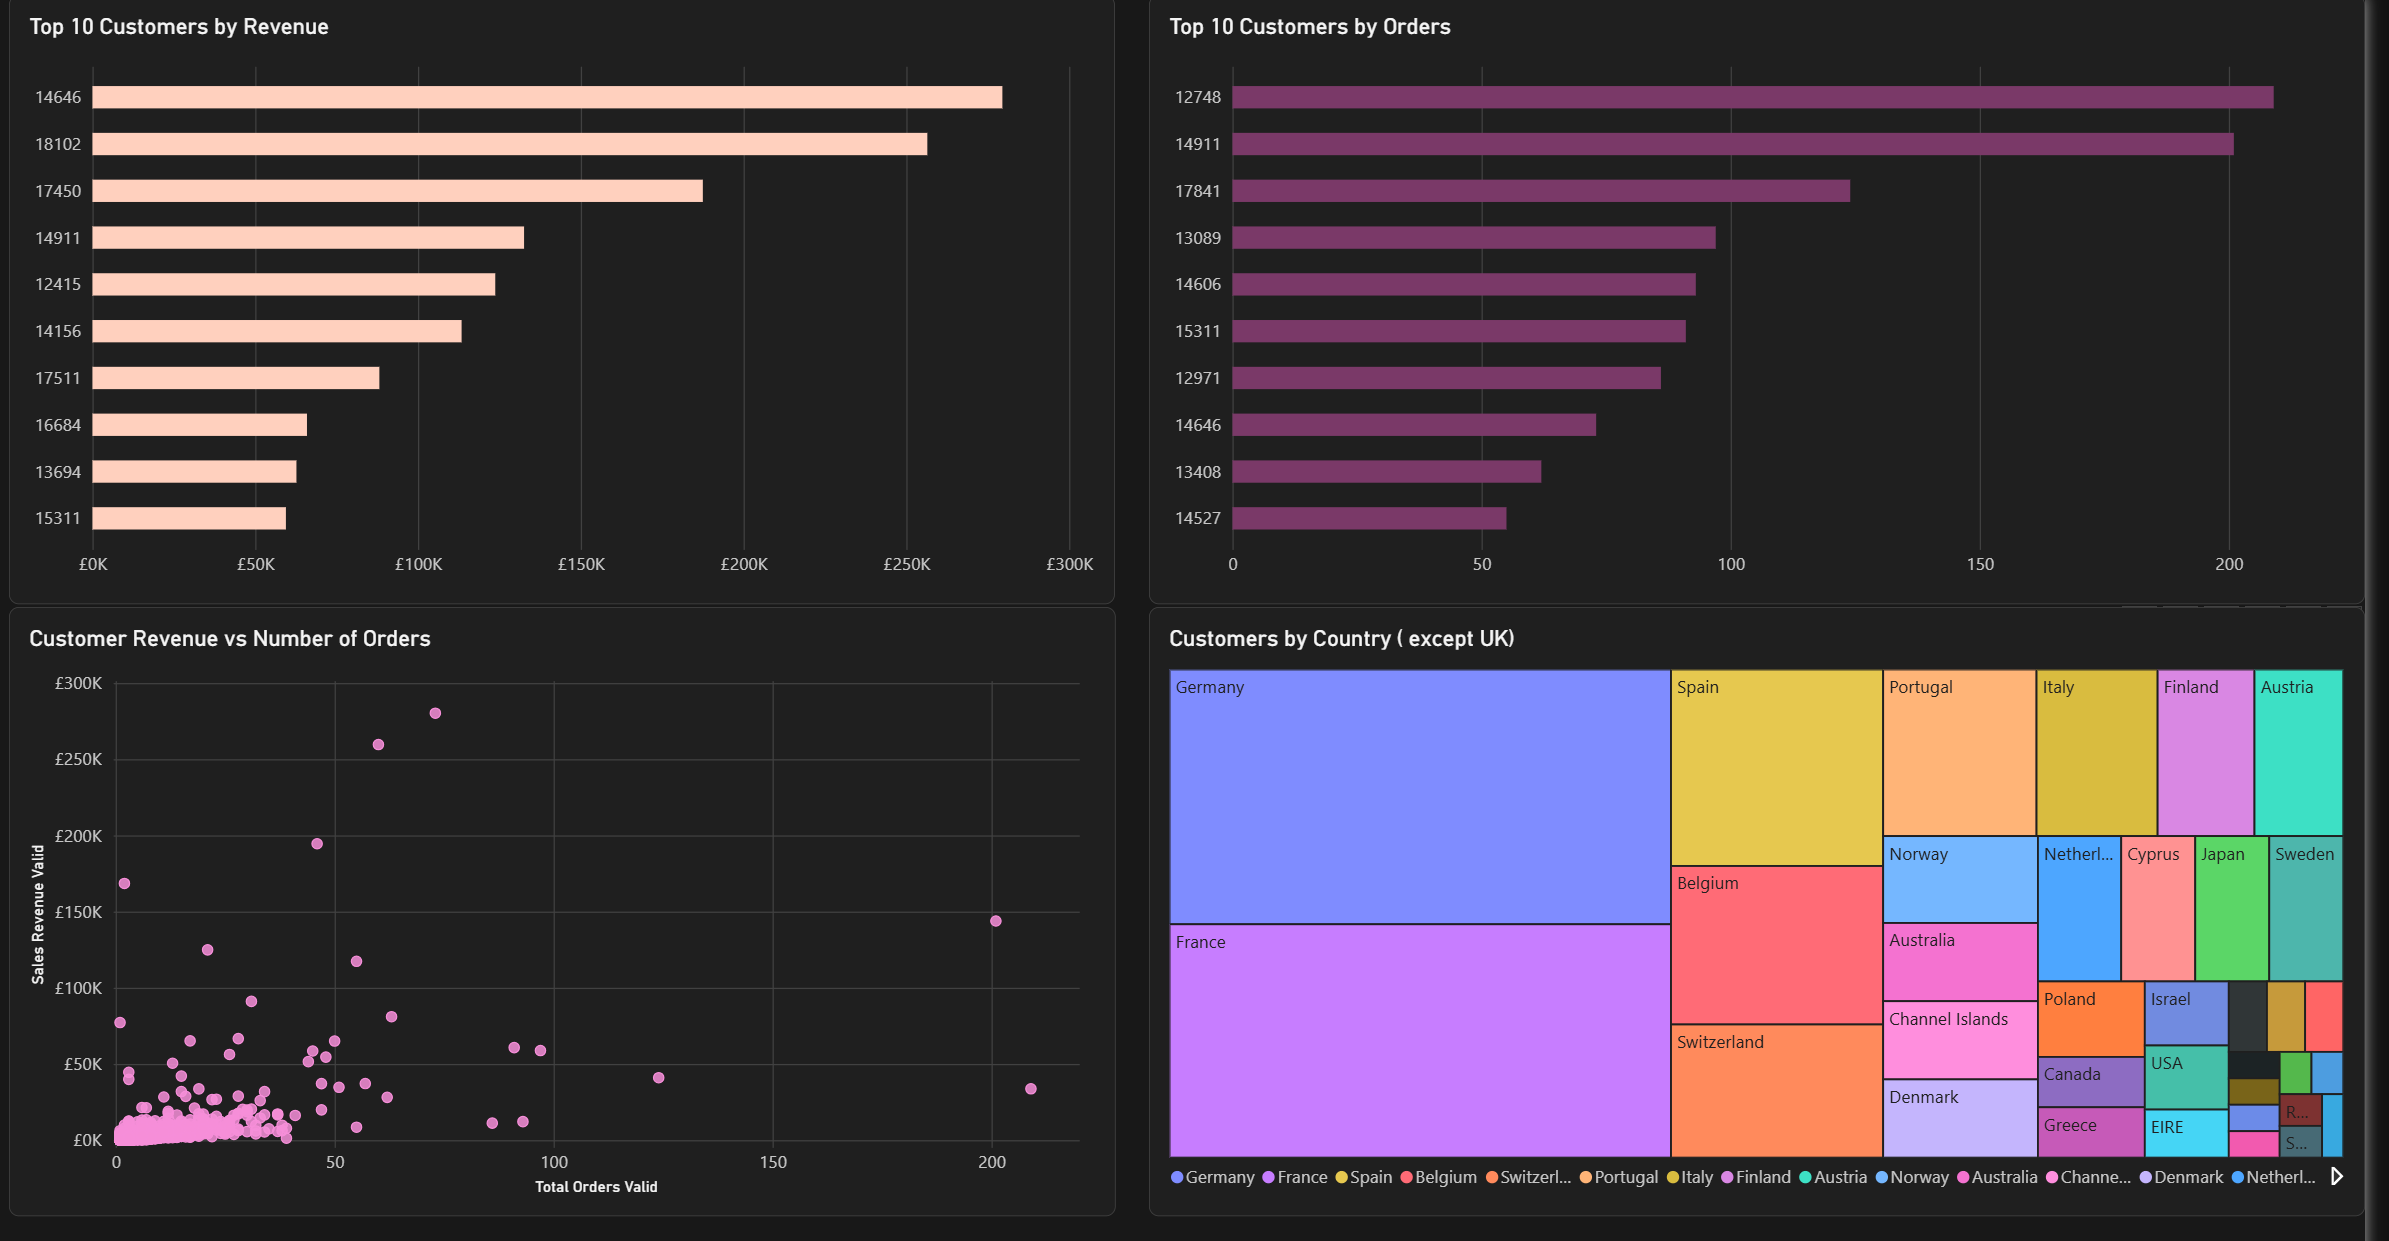

The page's visual inventory and layout, read from the dashboard file:
{"tool":"powerbi","page":{"name":"Customer Analysis","canvas":[1920,1080],"ordinal":2},"visuals":[{"type":"barChart","title":"Top 10 Customers by Revenue","fields":{"Category":["DimCustomer.CustomerID"],"Y":["Sales.Total Revenue"]},"box":[9.2,0,896.9,493.8],"z":0},{"type":"barChart","title":"Top 10 Customers by Orders","fields":{"Category":["Sales.CustomerID"],"Y":["Sales.Total Orders Valid"]},"box":[933.9,0,985.7,493.8],"z":1000},{"type":"scatterChart","title":"Customer Revenue vs Number of Orders","fields":{"Category":["DimCustomer.CustomerID"],"X":["Sales.Total Orders Valid"],"Y":["Sales.Sales Revenue Valid"]},"box":[9.2,495.6,897,494],"z":2000},{"type":"treemap","title":"Customers by Country ( except UK)","fields":{"Group":["DimCountry.Country"],"Values":["CountNonNull(DimCustomer.CustomerID)"]},"box":[933.9,495.6,985.7,493.8],"z":3000}]}

Visuals, with their boxes on the page's 1920x1080 design canvas (x1, y1, x2, y2). These are canvas units, not pixel positions in the 2389x1241 screenshot, which may show the page scaled, cropped or inside an application window:
"Top 10 Customers by Revenue" barChart: <box>9,0,906,494</box>
"Top 10 Customers by Orders" barChart: <box>934,0,1920,494</box>
"Customer Revenue vs Number of Orders" scatterChart: <box>9,496,906,990</box>
"Customers by Country ( except UK)" treemap: <box>934,496,1920,989</box>
